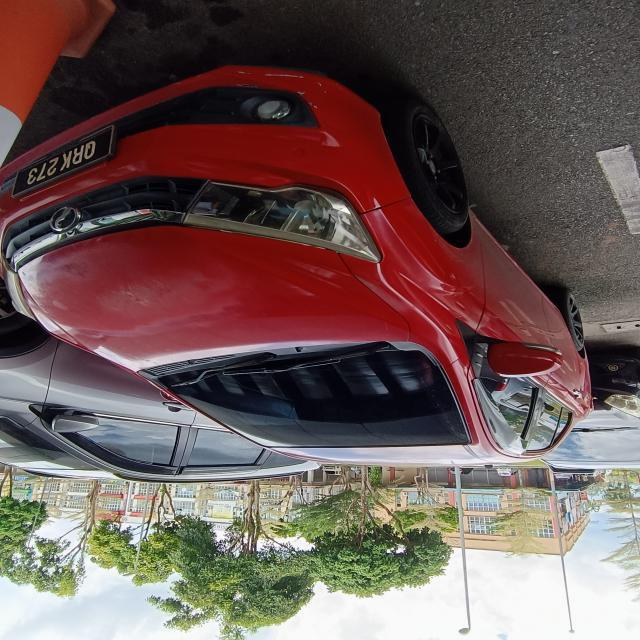PeroduaBezza: (1, 64, 596, 470)
